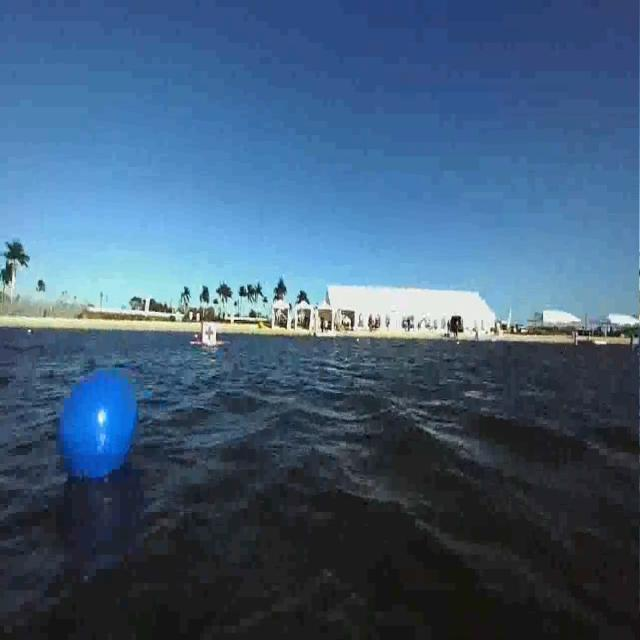blue-buoy: (54, 365, 139, 486)
